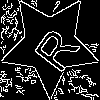R: (25, 19, 81, 75)
